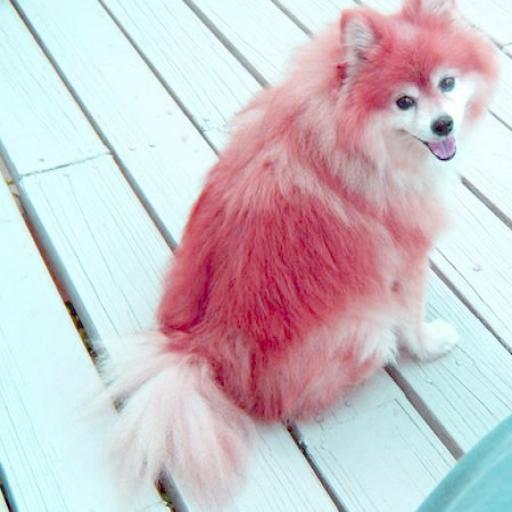dog_face: (335, 0, 488, 163)
